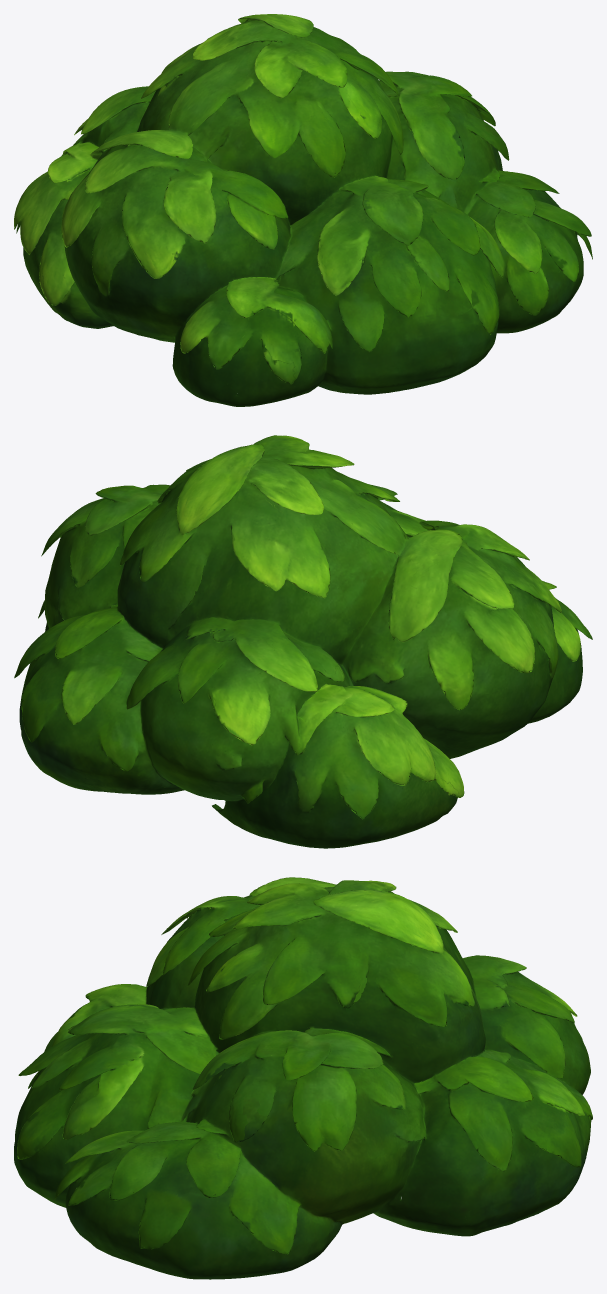
Rendered from bush.glb.
3 views of the same model, one above another, from view 1: azimuth 30°, elevation 25°; view 2: azimuth 150°, elevation 25°; view 3: azimuth 270°, elevation 25° (orthographic). The views are drawn at different scales.
Size of the model in its own units: 0.9829 by 0.5458 by 0.9866.
1 material, 1 textured.
